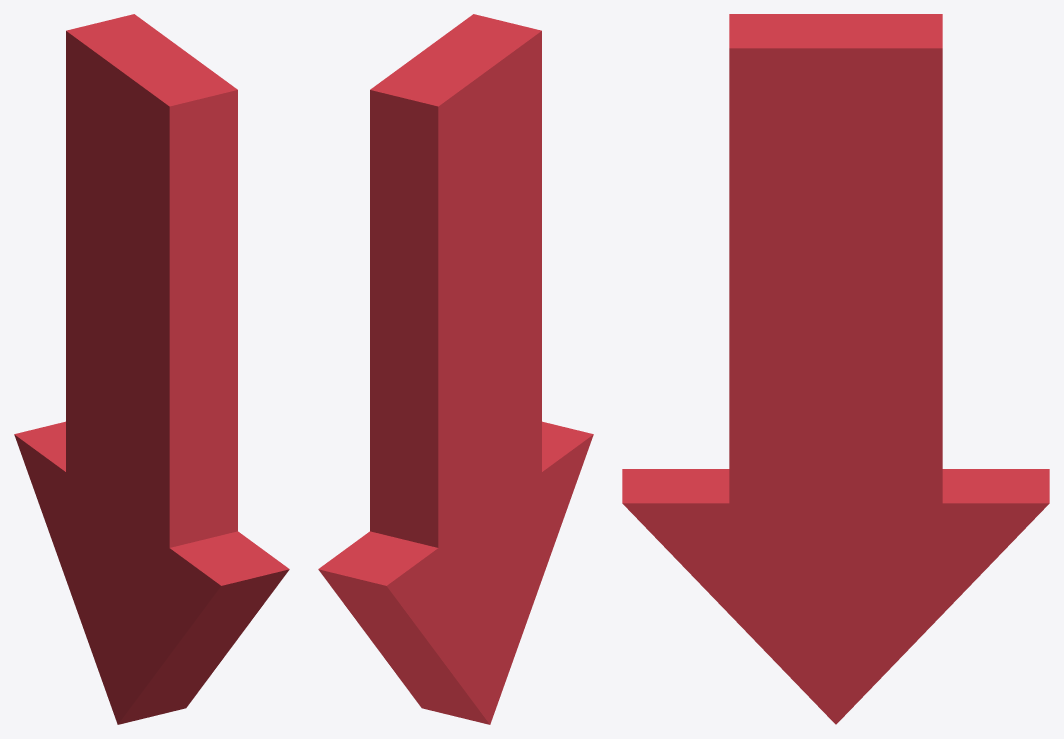
Rendered from Arrow.fbx.
3 renders of one model, left to right at view 1: azimuth 30°, elevation 25°; view 2: azimuth 150°, elevation 25°; view 3: azimuth 270°, elevation 25°, orthographic. The views are drawn at different scales.
Visible parts, largest first — view 1: Cube; view 2: Cube; view 3: Cube.
Part boxes in pixels (x1,y1,x2,y2): Cube: [14, 14, 289, 724]; Cube: [318, 14, 593, 724]; Cube: [622, 14, 1049, 724].
Size of the model in its own units: 43.36 by 397 by 227.
